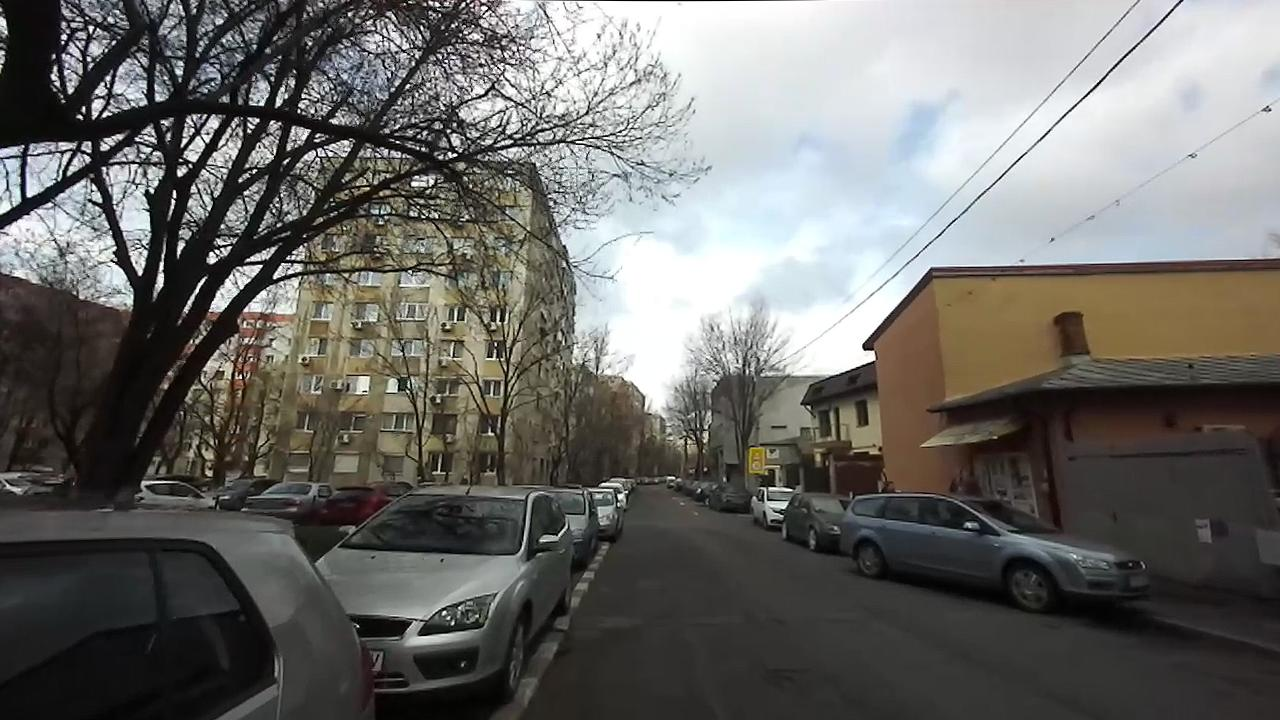pothole: (765, 663, 815, 693), (558, 641, 577, 660)
